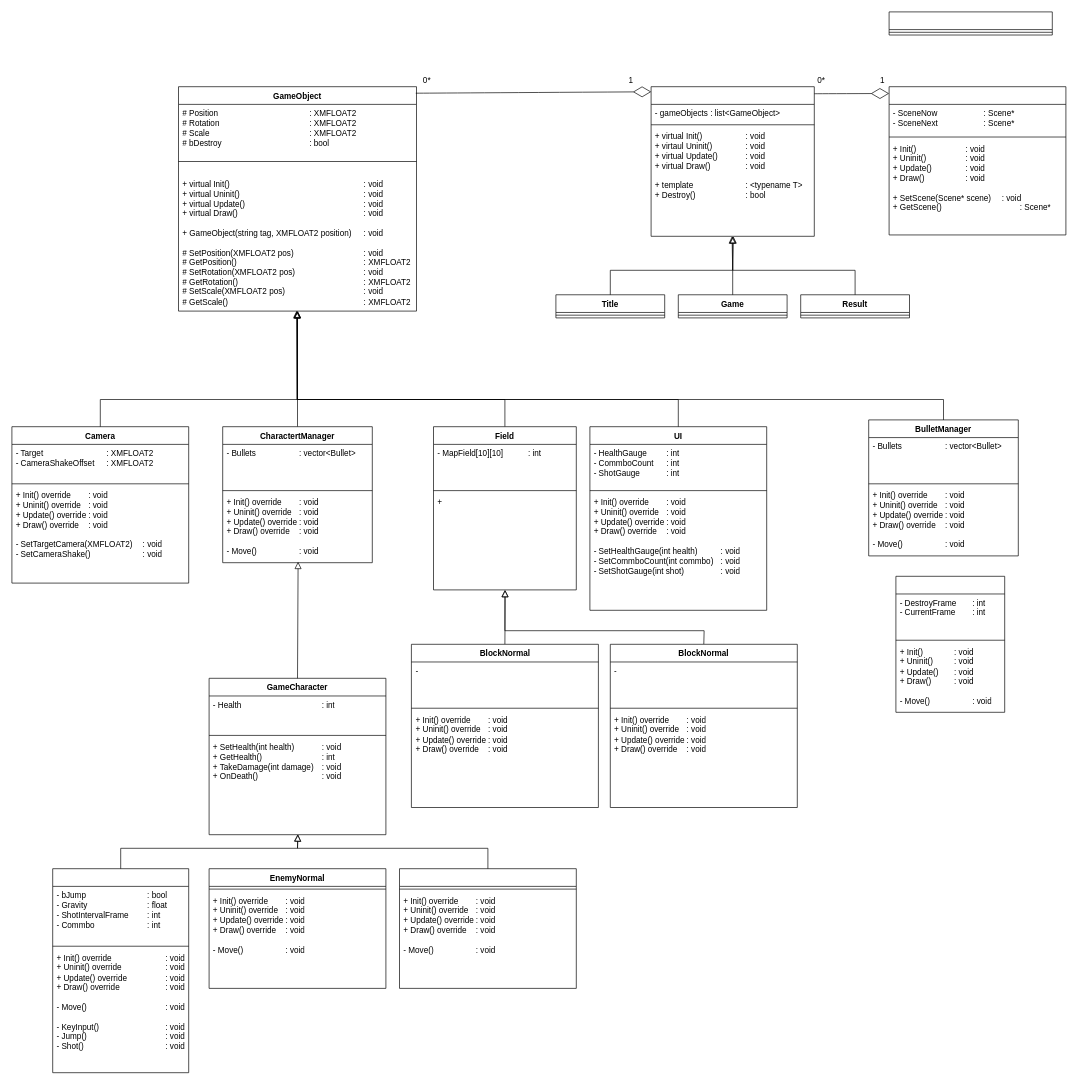
This 1078x1087 diagram has some shape labels left out. The box of each missing label's shape, as (x1, y1, x2, y2) in pixels:
Bullet: (895, 576, 1005, 712)
EnemyOnlyShot: (399, 868, 576, 988)
Player: (52, 868, 189, 1073)
Scene: (650, 86, 814, 236)
Scene Manager: (888, 86, 1066, 235)
WinMain: (888, 11, 1052, 35)
